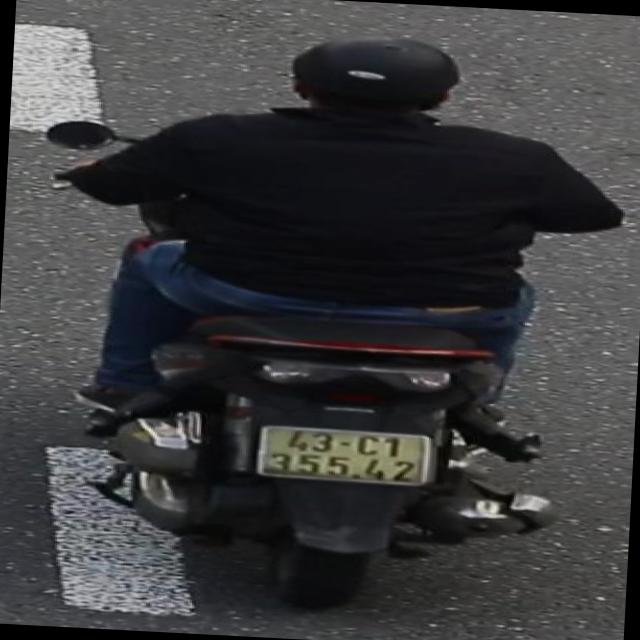LP: (250, 416, 446, 491)
helmet: (279, 28, 470, 135)
